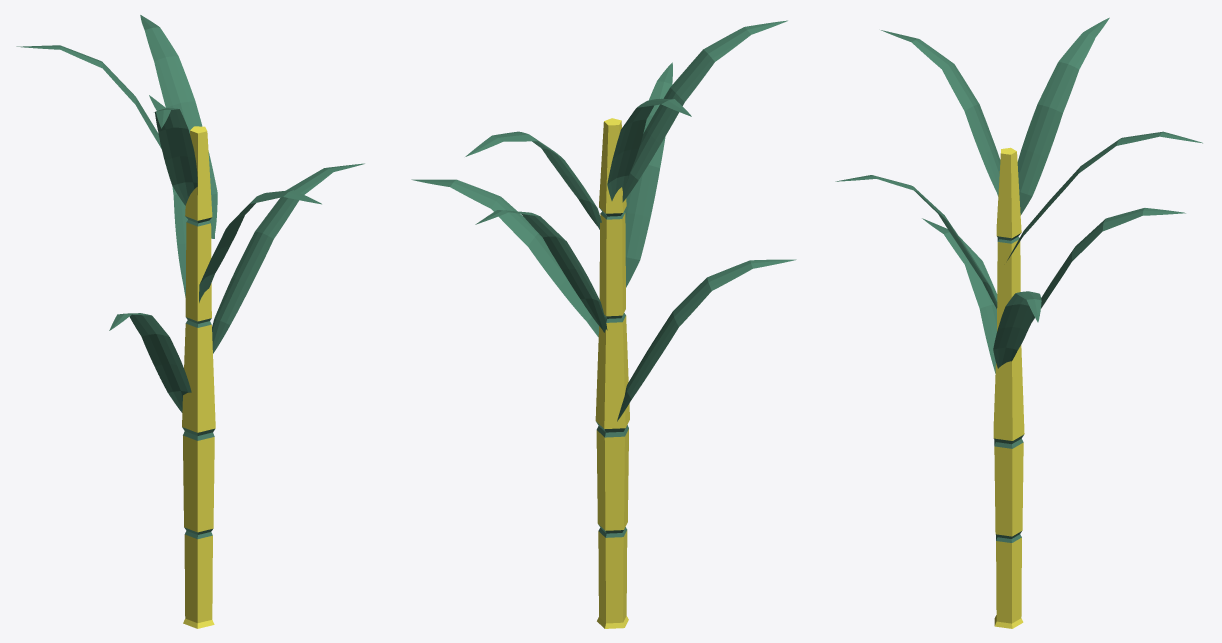
Rendered from sugarcane_small model.fbx.
The picture shows the model from 3 angles, left to right: view 1: azimuth 30°, elevation 25°; view 2: azimuth 150°, elevation 25°; view 3: azimuth 270°, elevation 25°; orthographic projection. The views are drawn at different scales.
Visible parts, largest first — view 1: Cylinder.005; view 2: Cylinder.005; view 3: Cylinder.005.
Boxes of the visible parts, x1,y1,x2,y2 form: Cylinder.005: [16, 15, 364, 628]; Cylinder.005: [411, 20, 796, 628]; Cylinder.005: [835, 17, 1202, 628].
Size of the model in its own units: 121 by 200 by 127.
